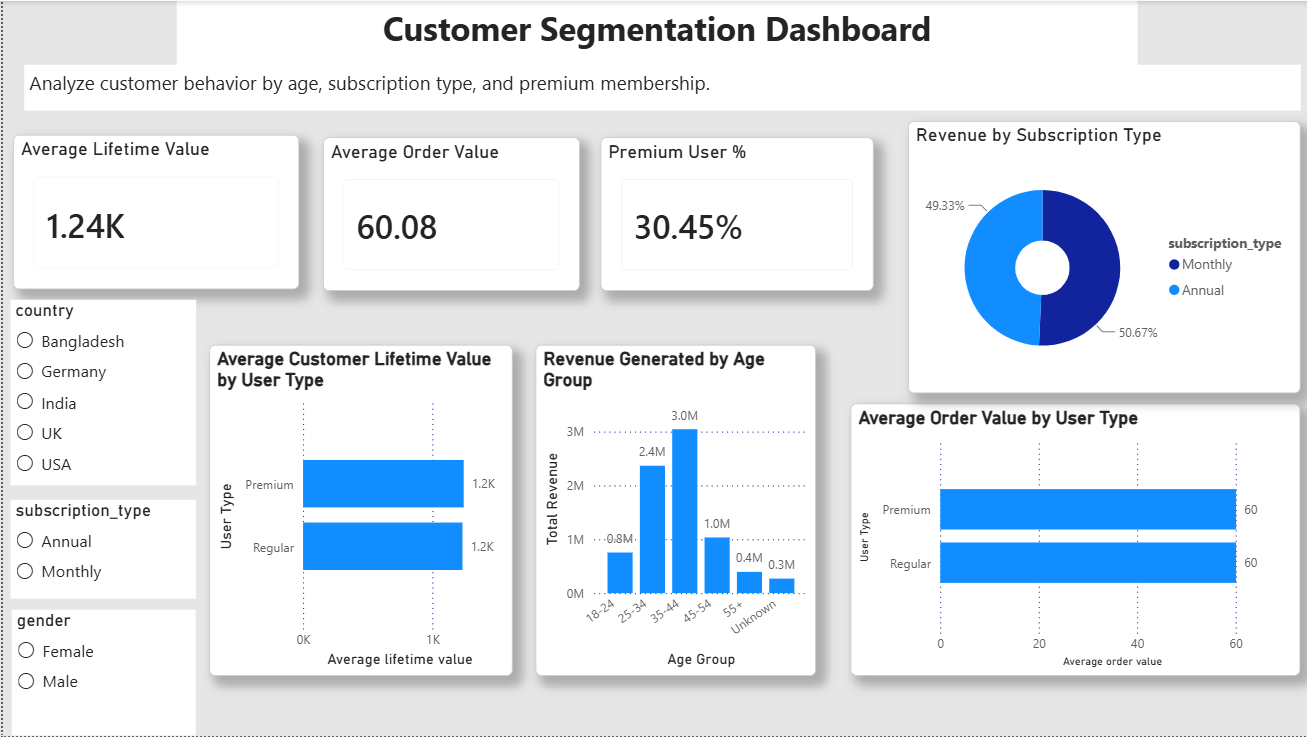

What the dashboard file says about the page in this screenshot:
{"tool":"powerbi","page":{"name":"Customer Segmentation","canvas":[1280,720],"ordinal":1},"visuals":[{"type":"textbox","box":[170,0,940,91.4],"z":0},{"type":"textbox","box":[20.5,62.9,1248.9,45.1],"z":1000},{"type":"cardVisual","title":"Average Lifetime Value","fields":{"Data":["CRMdataset.Average lifetime value"]},"box":[10,131.4,280,151.4],"z":2000},{"type":"cardVisual","title":"Average Order Value","fields":{"Data":["CRMdataset.Average order value"]},"box":[312.9,132.9,251.4,150],"z":3000},{"type":"cardVisual","title":"Premium User %","fields":{"Data":["CRMdataset.Premium user %"]},"box":[584.3,132.9,267.1,150],"z":4000},{"type":"clusteredColumnChart","title":"Revenue Generated by Age Group","fields":{"Y":["CRMdataset.Total Revenue"],"Category":["CRMdataset.Age Group"]},"box":[520.6,336.1,274.6,323.8],"z":5000},{"type":"clusteredBarChart","title":"Average Order Value by User Type","fields":{"Category":["CRMdataset.User Type"],"Y":["CRMdataset.Average order value"]},"box":[829.4,393.5,440,266.4],"z":6000},{"type":"donutChart","title":"Revenue by Subscription Type","fields":{"Category":["CRMdataset.subscription_type"],"Y":["CRMdataset.Total Revenue"]},"box":[885.4,117.5,383.9,266.4],"z":7000},{"type":"barChart","title":"Average Customer Lifetime Value by User Type","fields":{"Category":["CRMdataset.User Type"],"Y":["CRMdataset.Average lifetime value"]},"box":[202.2,336.1,296.5,323.8],"z":8000},{"type":"listSlicer","fields":{"Values":["CRMdataset.country"]},"box":[6.8,292.4,181.7,181.7],"z":9000},{"type":"listSlicer","fields":{"Values":["CRMdataset.subscription_type"]},"box":[6.8,487.8,181.7,97],"z":10000},{"type":"listSlicer","fields":{"Values":["CRMdataset.gender"]},"box":[8.2,595.7,180.4,124.3],"z":11000}]}

Visuals, with their boxes in screenshot pixels (x1, y1, x2, y2), scaled from the page's 1280x720 canvas onto the 1307x737 screenshot:
textbox: x1=174, y1=0, x2=1133, y2=94
textbox: x1=21, y1=64, x2=1296, y2=111
"Average Lifetime Value" cardVisual: x1=10, y1=135, x2=296, y2=289
"Average Order Value" cardVisual: x1=320, y1=136, x2=576, y2=290
"Premium User %" cardVisual: x1=597, y1=136, x2=869, y2=290
"Revenue Generated by Age Group" clusteredColumnChart: x1=532, y1=344, x2=812, y2=675
"Average Order Value by User Type" clusteredBarChart: x1=847, y1=403, x2=1296, y2=675
"Revenue by Subscription Type" donutChart: x1=904, y1=120, x2=1296, y2=393
"Average Customer Lifetime Value by User Type" barChart: x1=206, y1=344, x2=509, y2=675
listSlicer - CRMdataset.country: x1=7, y1=299, x2=192, y2=485
listSlicer - CRMdataset.subscription_type: x1=7, y1=499, x2=192, y2=599
listSlicer - CRMdataset.gender: x1=8, y1=610, x2=193, y2=736
